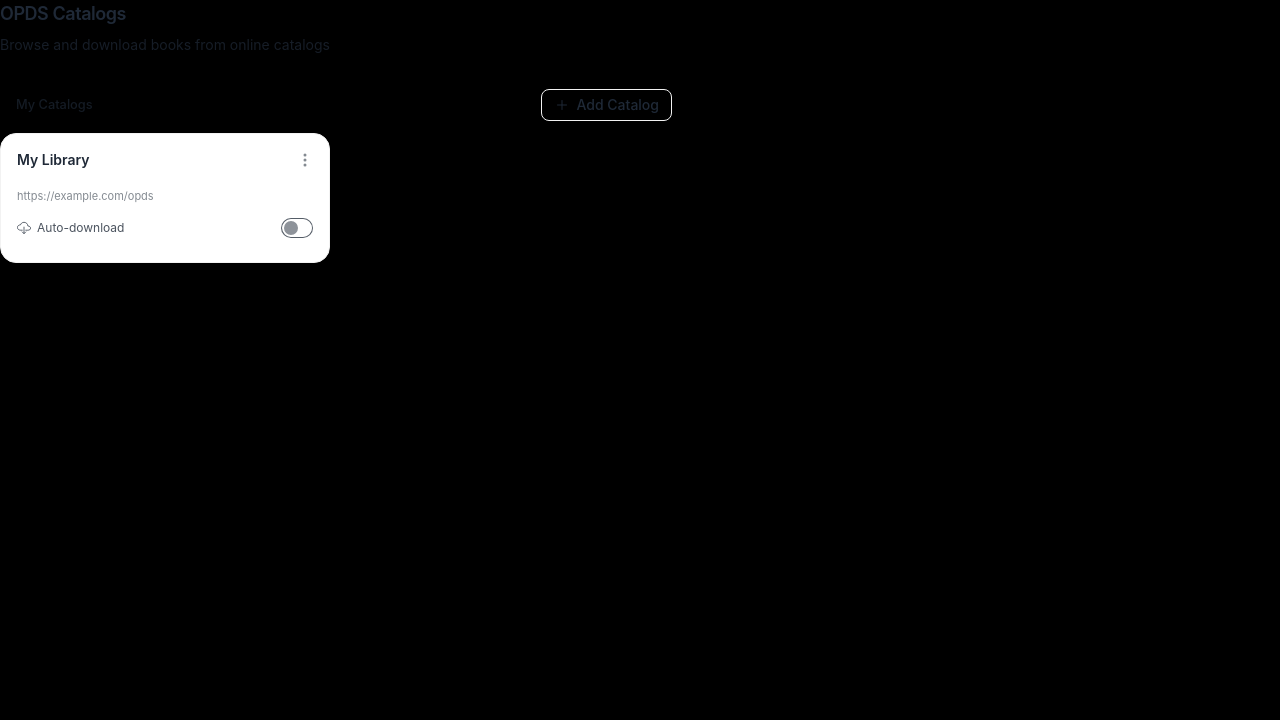
Scenario: CatalogManager auto-download confirmation (#5746) › flipping the list toggle on asks for confirmation instead of enabling
The width and height of the screenshot is (1280, 720).
Click the checkbox labelled "Auto-download".
click(297, 228)  # box [281,218,313,238]
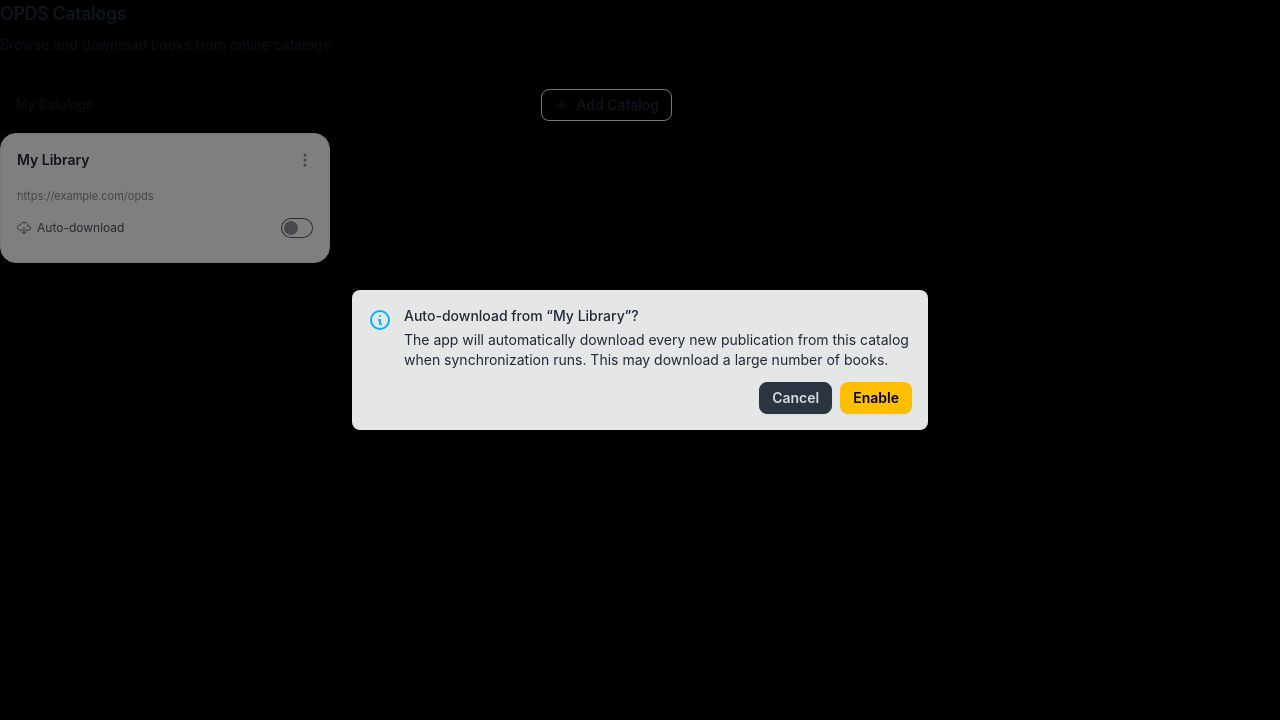
Result: the heading "Auto-download from “My Library”?" is shown at [404,307,639,324]
